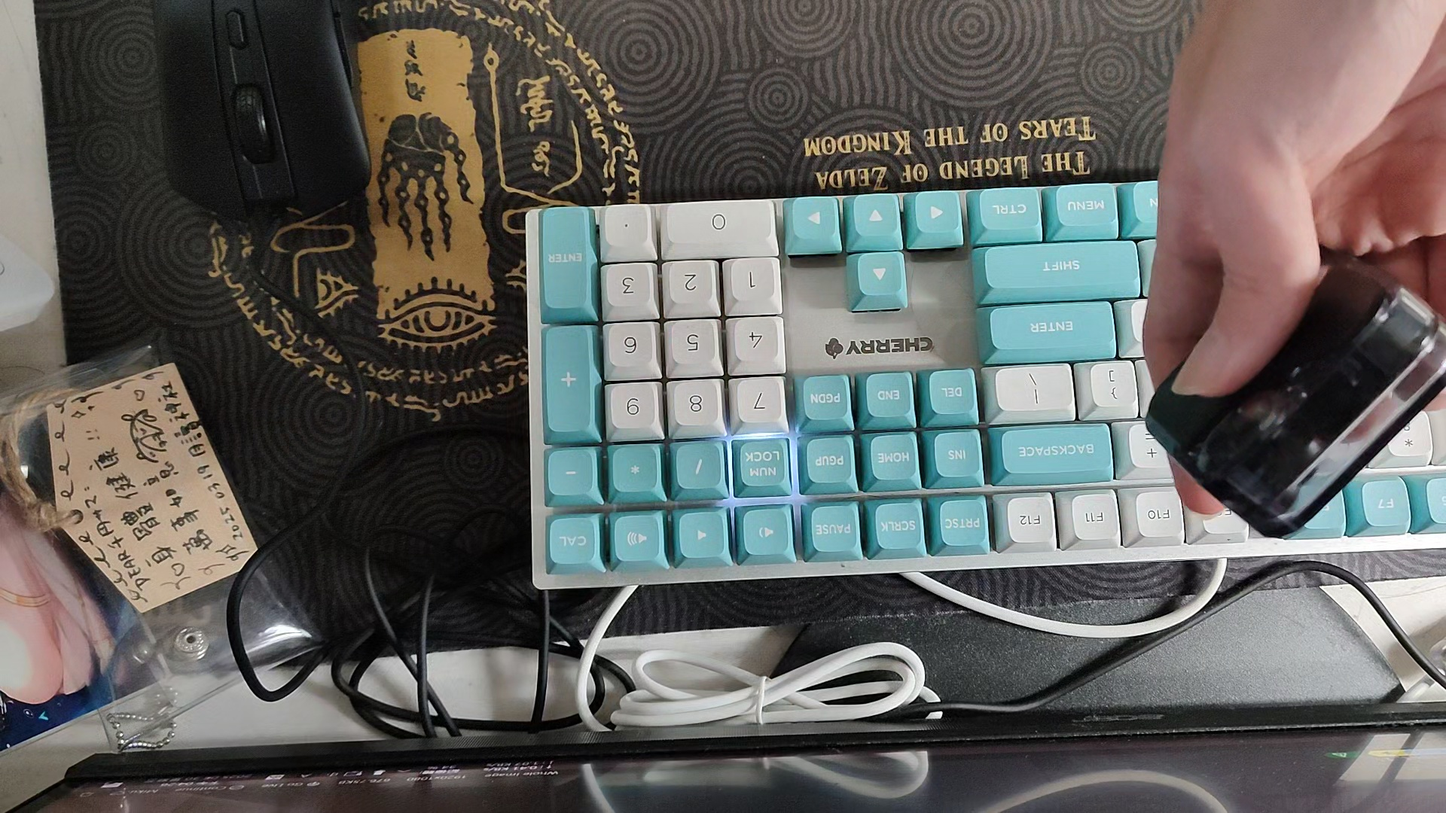Wireless_earphone: (1146, 233, 1446, 544)
